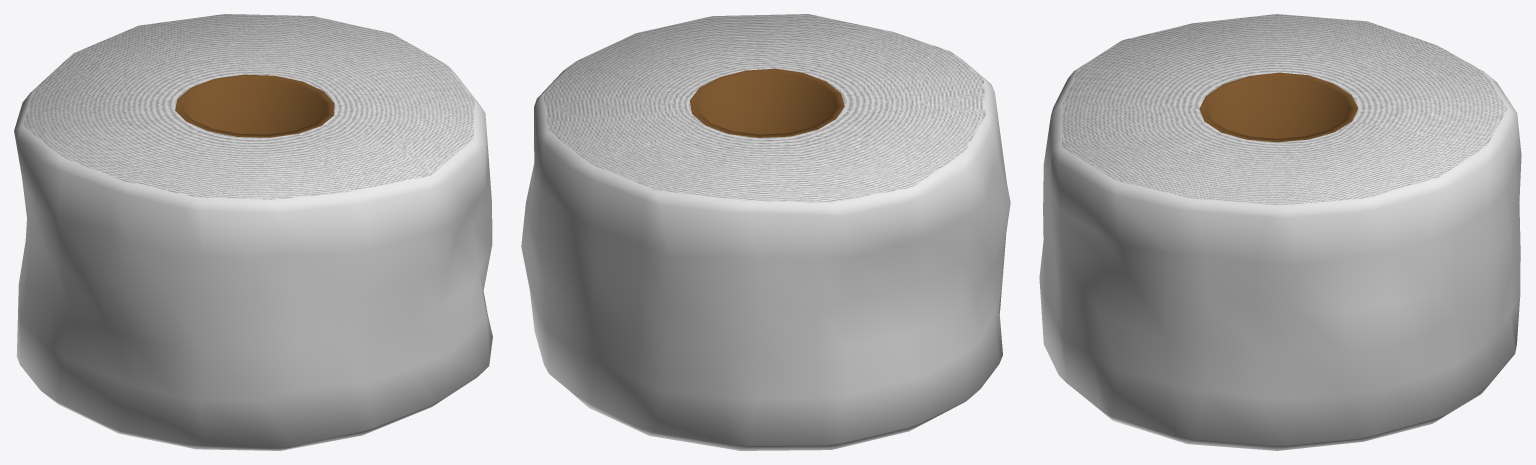
File: rolka.glb
The picture shows the model from 3 angles, left to right: view 1: azimuth 30°, elevation 25°; view 2: azimuth 150°, elevation 25°; view 3: azimuth 270°, elevation 25°; orthographic projection.
Visible parts, largest first — view 1: Cylinder; view 2: Cylinder; view 3: Cylinder.
Boxes of the visible parts, x1,y1,x2,y2 form: Cylinder: (14, 14, 492, 450); Cylinder: (521, 14, 1010, 450); Cylinder: (1039, 14, 1521, 450).
Bounding box in the file's own units: 1.82 × 1.07 × 1.84.
Materials: 3 (1 with a texture image).
